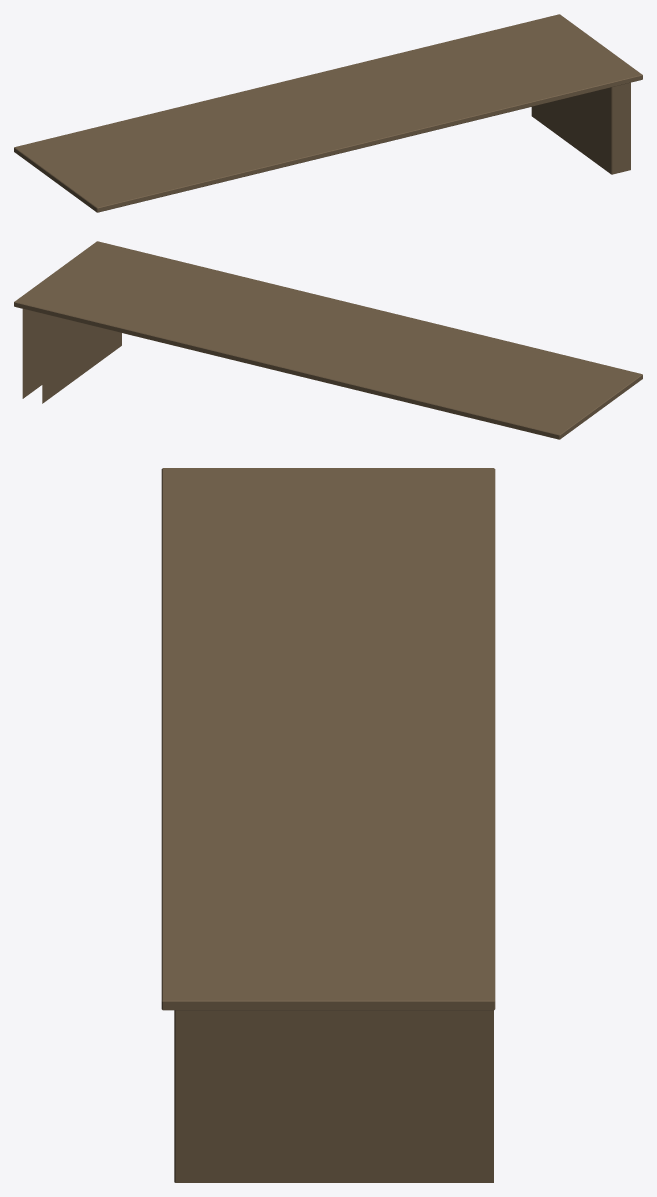
The model's file is lab_table_low.fbx.
The picture shows the model from 3 angles, top to bottom: view 1: azimuth 30°, elevation 25°; view 2: azimuth 150°, elevation 25°; view 3: azimuth 270°, elevation 25°; orthographic projection. The views are drawn at different scales.
Parts seen in each view (by area): view 1: lab_table_low; view 2: lab_table_low; view 3: lab_table_low.
Part boxes in pixels (left/top/right/bottom): lab_table_low: left=14, top=14, right=642, bottom=212; lab_table_low: left=14, top=241, right=642, bottom=439; lab_table_low: left=161, top=468, right=495, bottom=1182.
Bounding box in the file's own units: 17.78 × 2.97 × 4.7.
